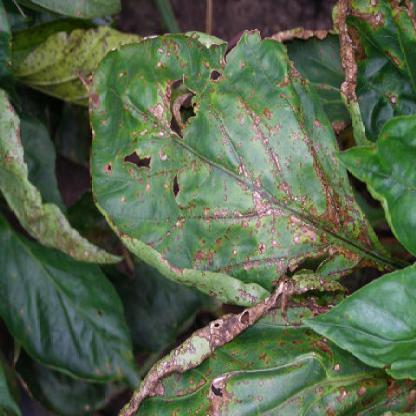bell pepper leaf spot: (76, 30, 363, 299), (109, 290, 398, 413), (1, 81, 116, 275), (7, 235, 137, 386), (330, 1, 415, 151), (337, 114, 415, 259)
